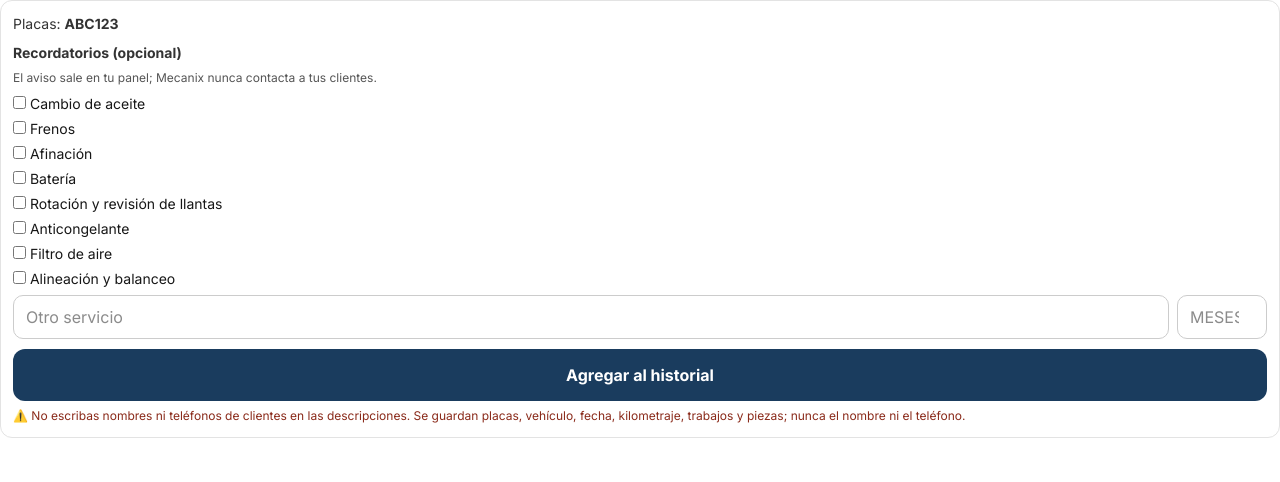
Test: recordatorios al agregar (etapa 3) › meses inválidos: mensaje y no agrega nada
Type "Clima" into the field labelled "Otro servicio" at (591, 317), box [13,295,1169,339]
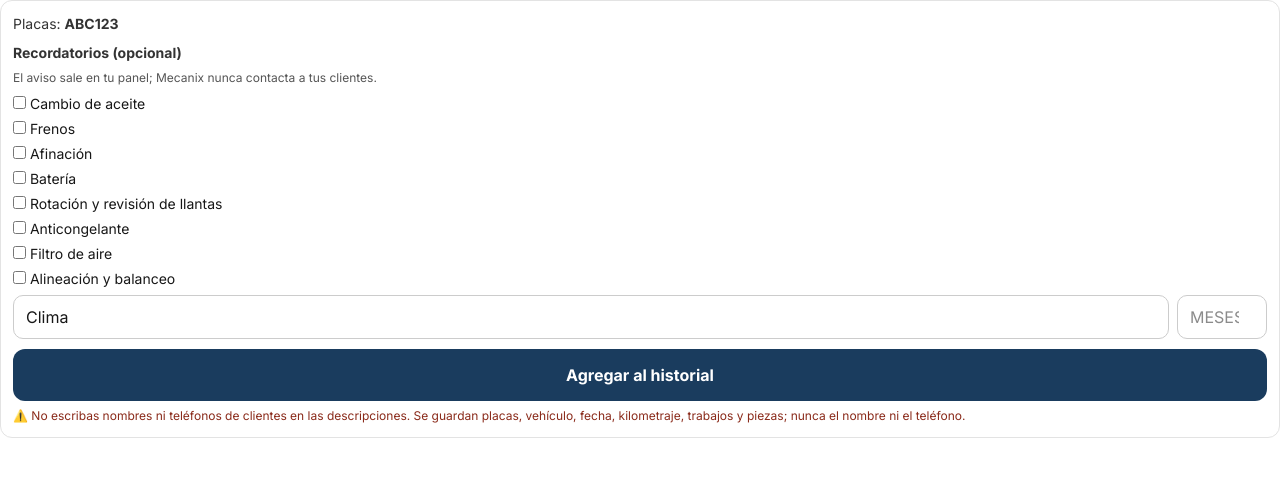
Click the button "Agregar al historial" at (640, 375), box [13,349,1267,401]
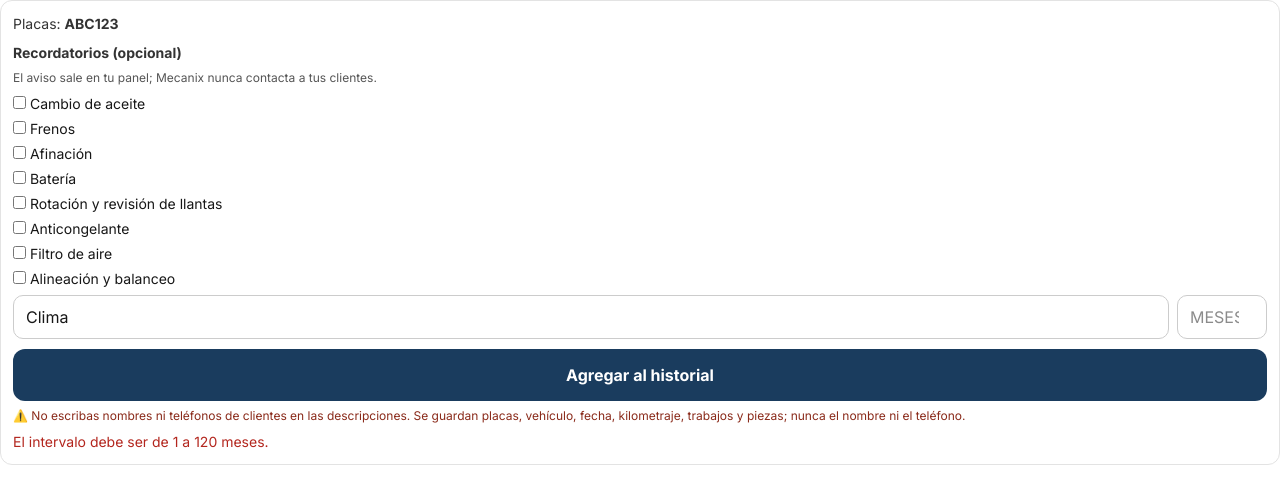
Now the message shows "1 a 120 meses", box [13,433,269,450]
